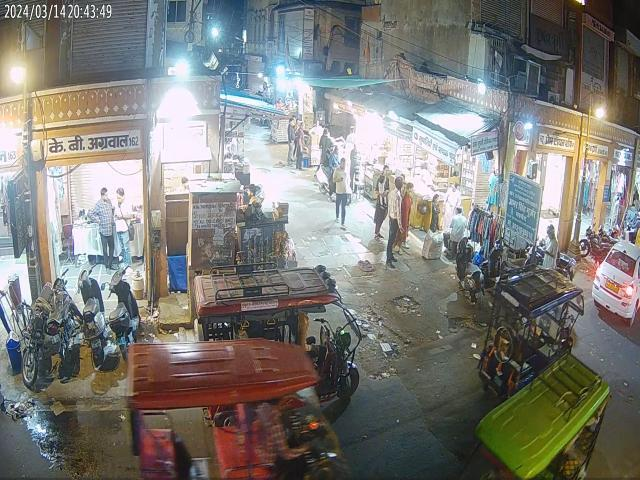auto: (124, 344, 348, 480), (189, 276, 369, 392), (472, 372, 616, 478), (490, 268, 587, 360)
car: (592, 234, 640, 349)
motorbike: (18, 281, 57, 386), (50, 268, 78, 378)
person: (112, 189, 137, 265), (90, 188, 114, 263), (387, 174, 402, 275), (332, 156, 350, 230), (374, 164, 390, 241)
scooty: (106, 268, 140, 356), (77, 260, 103, 368), (452, 236, 486, 310)
